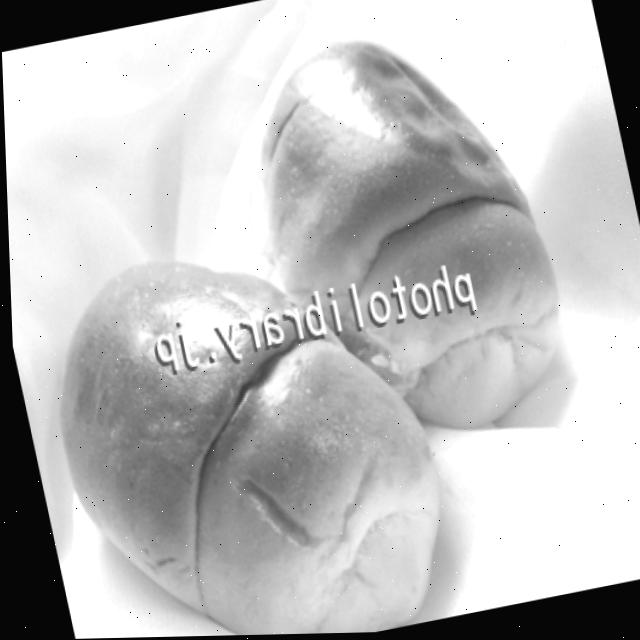面包点心: (0, 6, 626, 640)
